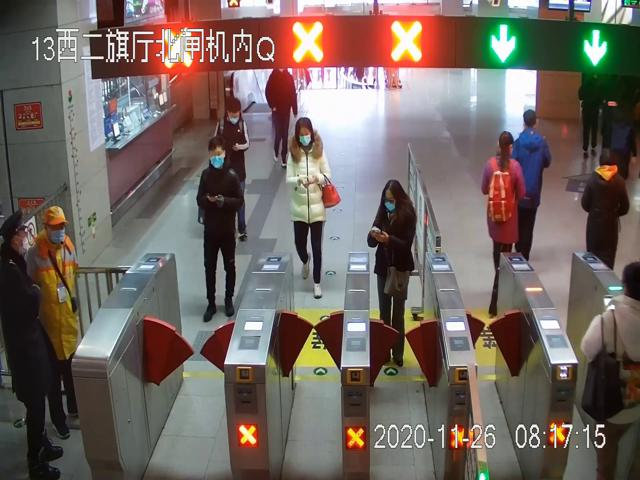person: (0, 209, 63, 477), (25, 204, 88, 438), (367, 178, 417, 368), (286, 119, 335, 298), (196, 137, 242, 323), (482, 130, 524, 316), (213, 99, 248, 244)
